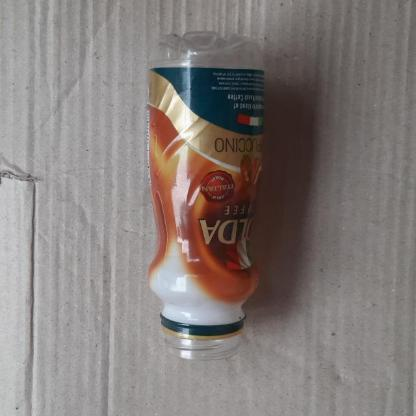Plastic Bottle: (105, 20, 287, 380)
